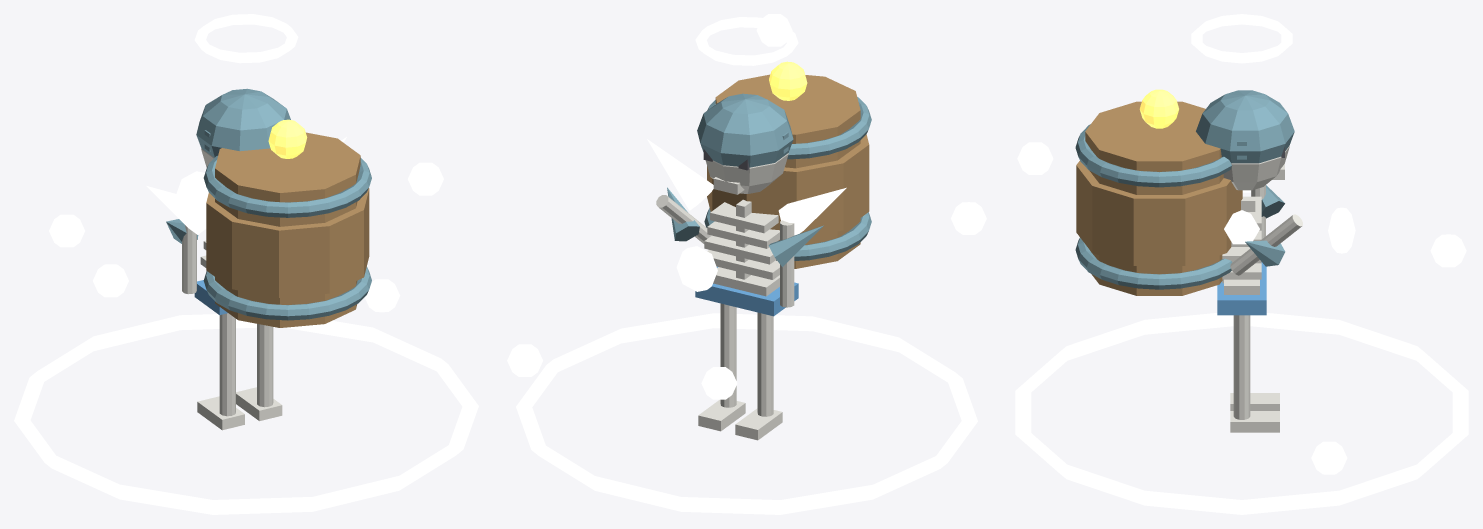
The model's file is evolved_wall_breakers.glb.
3 views of the same model, side by side, from view 1: azimuth 30°, elevation 25°; view 2: azimuth 150°, elevation 25°; view 3: azimuth 270°, elevation 25° (orthographic).
Parts seen in each view (by area): view 1: evolved_wall_breakers; view 2: evolved_wall_breakers; view 3: evolved_wall_breakers.
Part boxes in pixels (bbox=[...]): evolved_wall_breakers: bbox=[14, 14, 478, 514]; evolved_wall_breakers: bbox=[507, 14, 986, 514]; evolved_wall_breakers: bbox=[1015, 14, 1468, 514].
Size of the model in its own units: 3.1 by 2.84 by 3.02.
